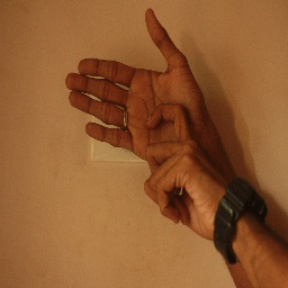R: (66, 7, 217, 220)
